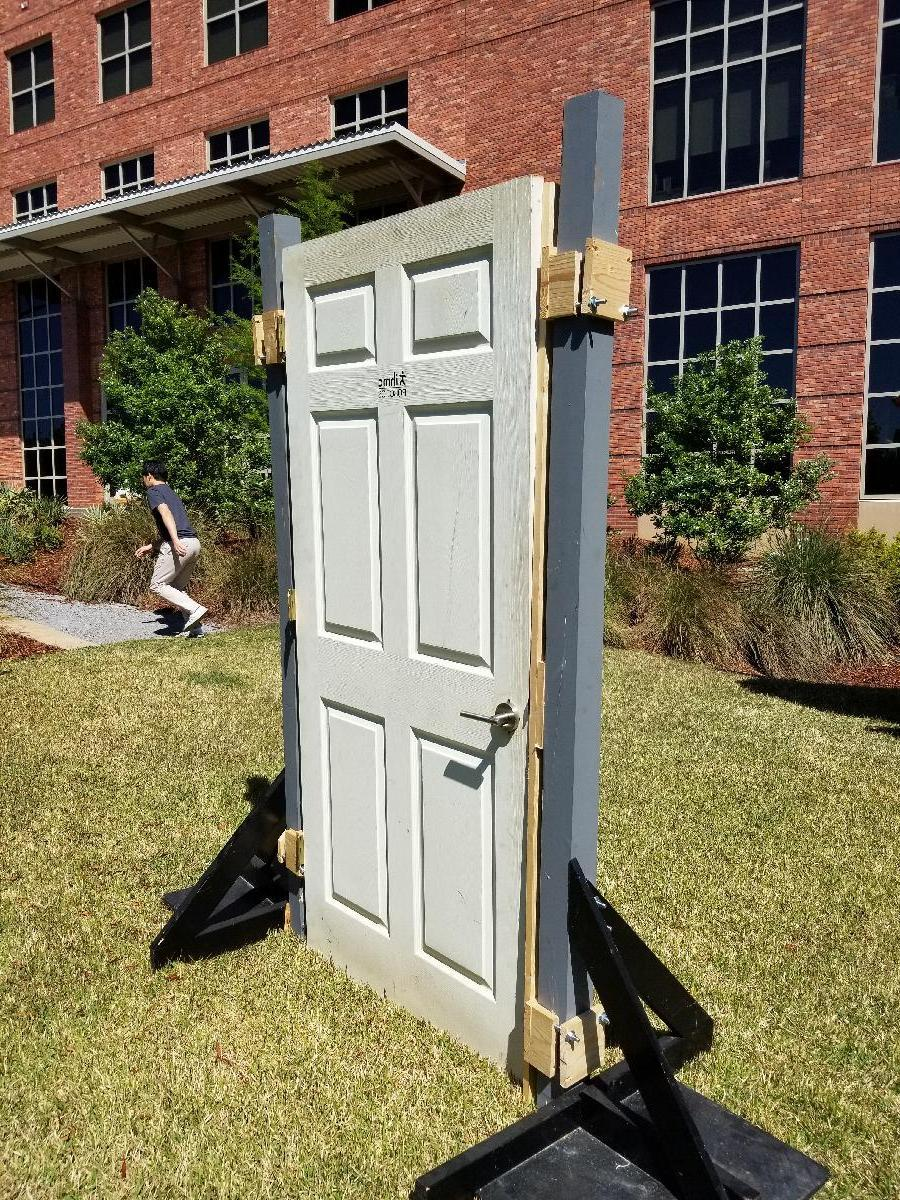door: (292, 173, 544, 1033)
handle: (456, 698, 514, 737)
